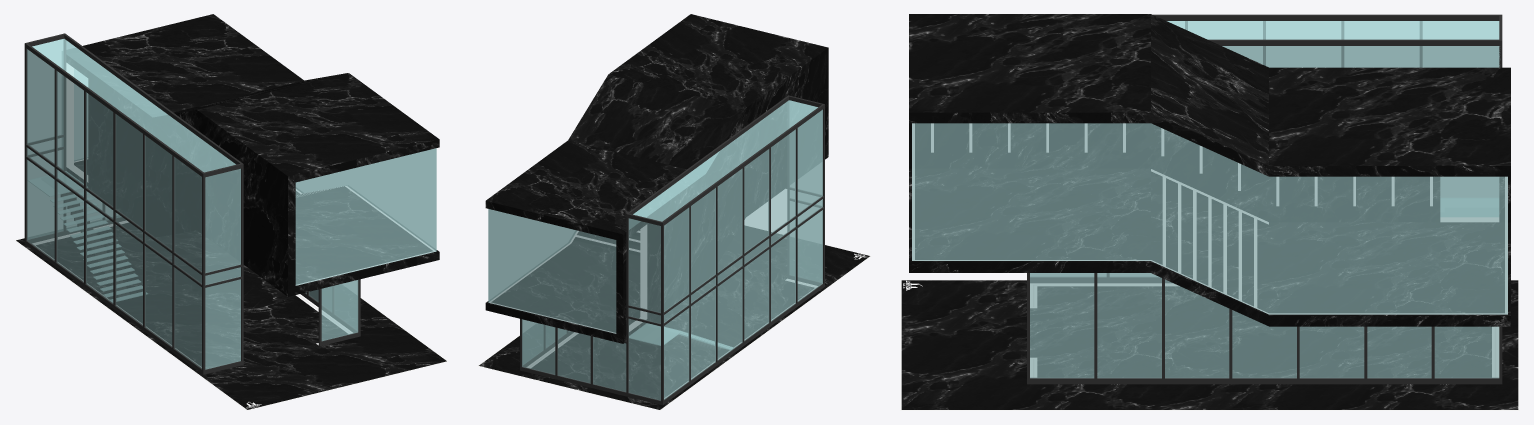
Rendered from Dhingia Builds 03 Blck 2x1.glb.
3 renders of one model, left to right at view 1: azimuth 30°, elevation 25°; view 2: azimuth 150°, elevation 25°; view 3: azimuth 270°, elevation 25°, orthographic. The views are drawn at different scales.
Parts seen in each view (by area): view 1: Difference, Mesh_2, Mesh_0, Mesh_1, OuterShell, Stair, Mesh_39, Mesh_40; view 2: Difference, Mesh_2, Mesh_0, Mesh_1, OuterShell, Mesh_39; view 3: Difference, Mesh_1, Mesh_0, Mesh_2, OuterShell, Mesh_39.
Boxes of the visible parts, x1,y1,x2,y2 form: Difference: (66, 14, 439, 296); Mesh_2: (27, 38, 358, 369); Mesh_0: (14, 220, 448, 410); Mesh_1: (74, 69, 436, 285); OuterShell: (24, 33, 360, 374); Stair: (50, 192, 147, 301); Mesh_39: (28, 171, 87, 196); Mesh_40: (61, 192, 129, 297); Difference: (485, 14, 828, 343); Mesh_2: (522, 100, 822, 400); Mesh_0: (477, 225, 871, 410); Mesh_1: (488, 209, 616, 333); OuterShell: (520, 95, 824, 405); Mesh_39: (629, 323, 681, 345); Difference: (909, 14, 1510, 326); Mesh_1: (912, 123, 1507, 314); Mesh_0: (900, 279, 1519, 410); Mesh_2: (1030, 21, 1500, 378); OuterShell: (1027, 14, 1502, 384); Mesh_39: (1440, 198, 1498, 216).
Size of what is drawn, in the model's own units: 16 by 16.79 by 32.
Materials: 5 (1 with a texture image).
